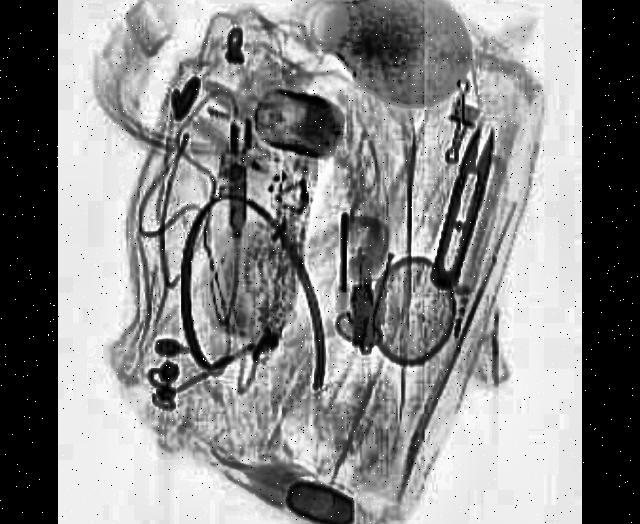Scissors: (426, 115, 498, 289)
